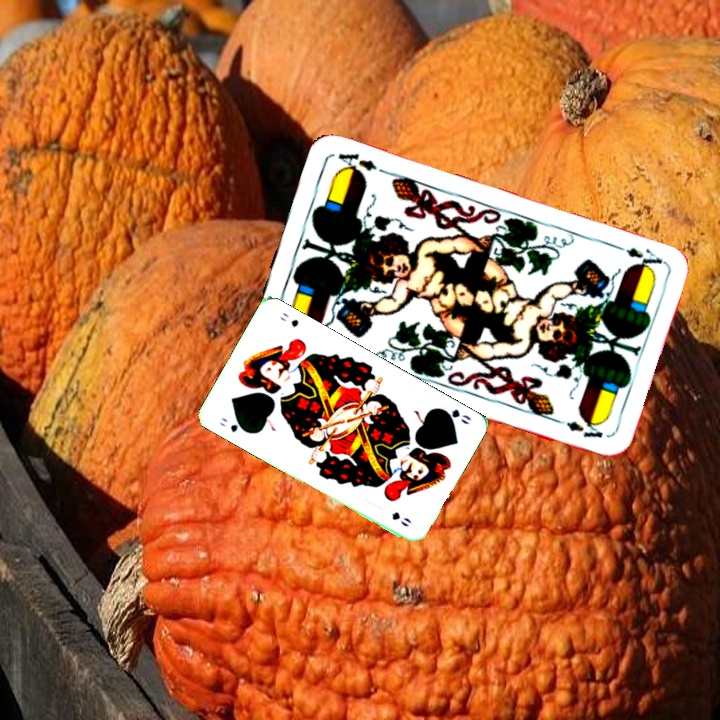EA: (609, 240, 666, 274)
GO: (434, 404, 474, 427), (216, 414, 250, 435)
